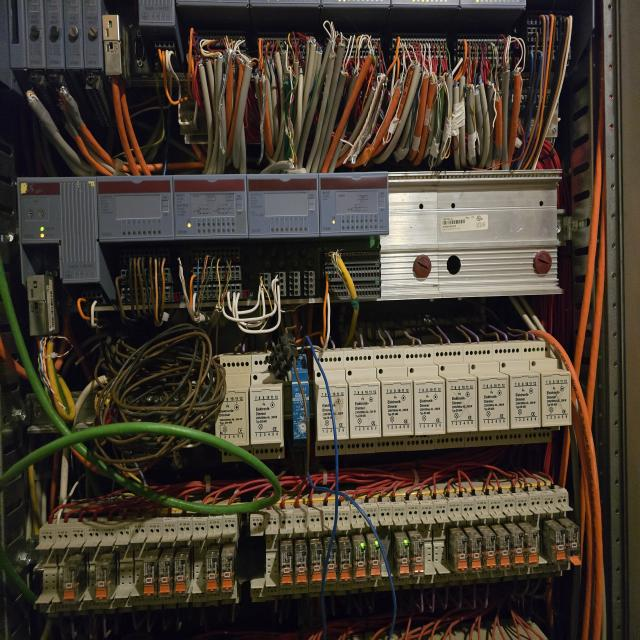Dimmer: (521, 341, 571, 444), (493, 343, 541, 445), (463, 345, 510, 447), (433, 346, 478, 449), (404, 348, 446, 450), (373, 349, 414, 453), (344, 350, 382, 455), (249, 355, 284, 461), (313, 349, 347, 455), (214, 356, 248, 461), (289, 350, 310, 447)
Relais: (394, 540, 410, 577), (64, 564, 78, 603), (96, 564, 110, 601), (205, 557, 219, 594), (158, 560, 172, 596), (279, 551, 293, 586), (368, 544, 382, 578), (526, 532, 540, 566), (174, 559, 187, 595), (295, 550, 308, 586), (469, 536, 482, 572), (498, 535, 511, 570), (354, 545, 366, 581), (412, 540, 424, 576), (568, 528, 580, 564), (144, 561, 156, 596), (310, 549, 322, 584), (340, 547, 352, 582), (456, 538, 468, 573), (325, 549, 337, 583), (512, 534, 524, 568), (554, 530, 566, 564), (222, 556, 233, 592), (485, 536, 496, 571)
SPS-System -Steuerungskomponente-: (18, 176, 96, 242), (96, 175, 175, 239), (175, 175, 248, 238), (248, 175, 319, 238), (320, 172, 388, 235)
